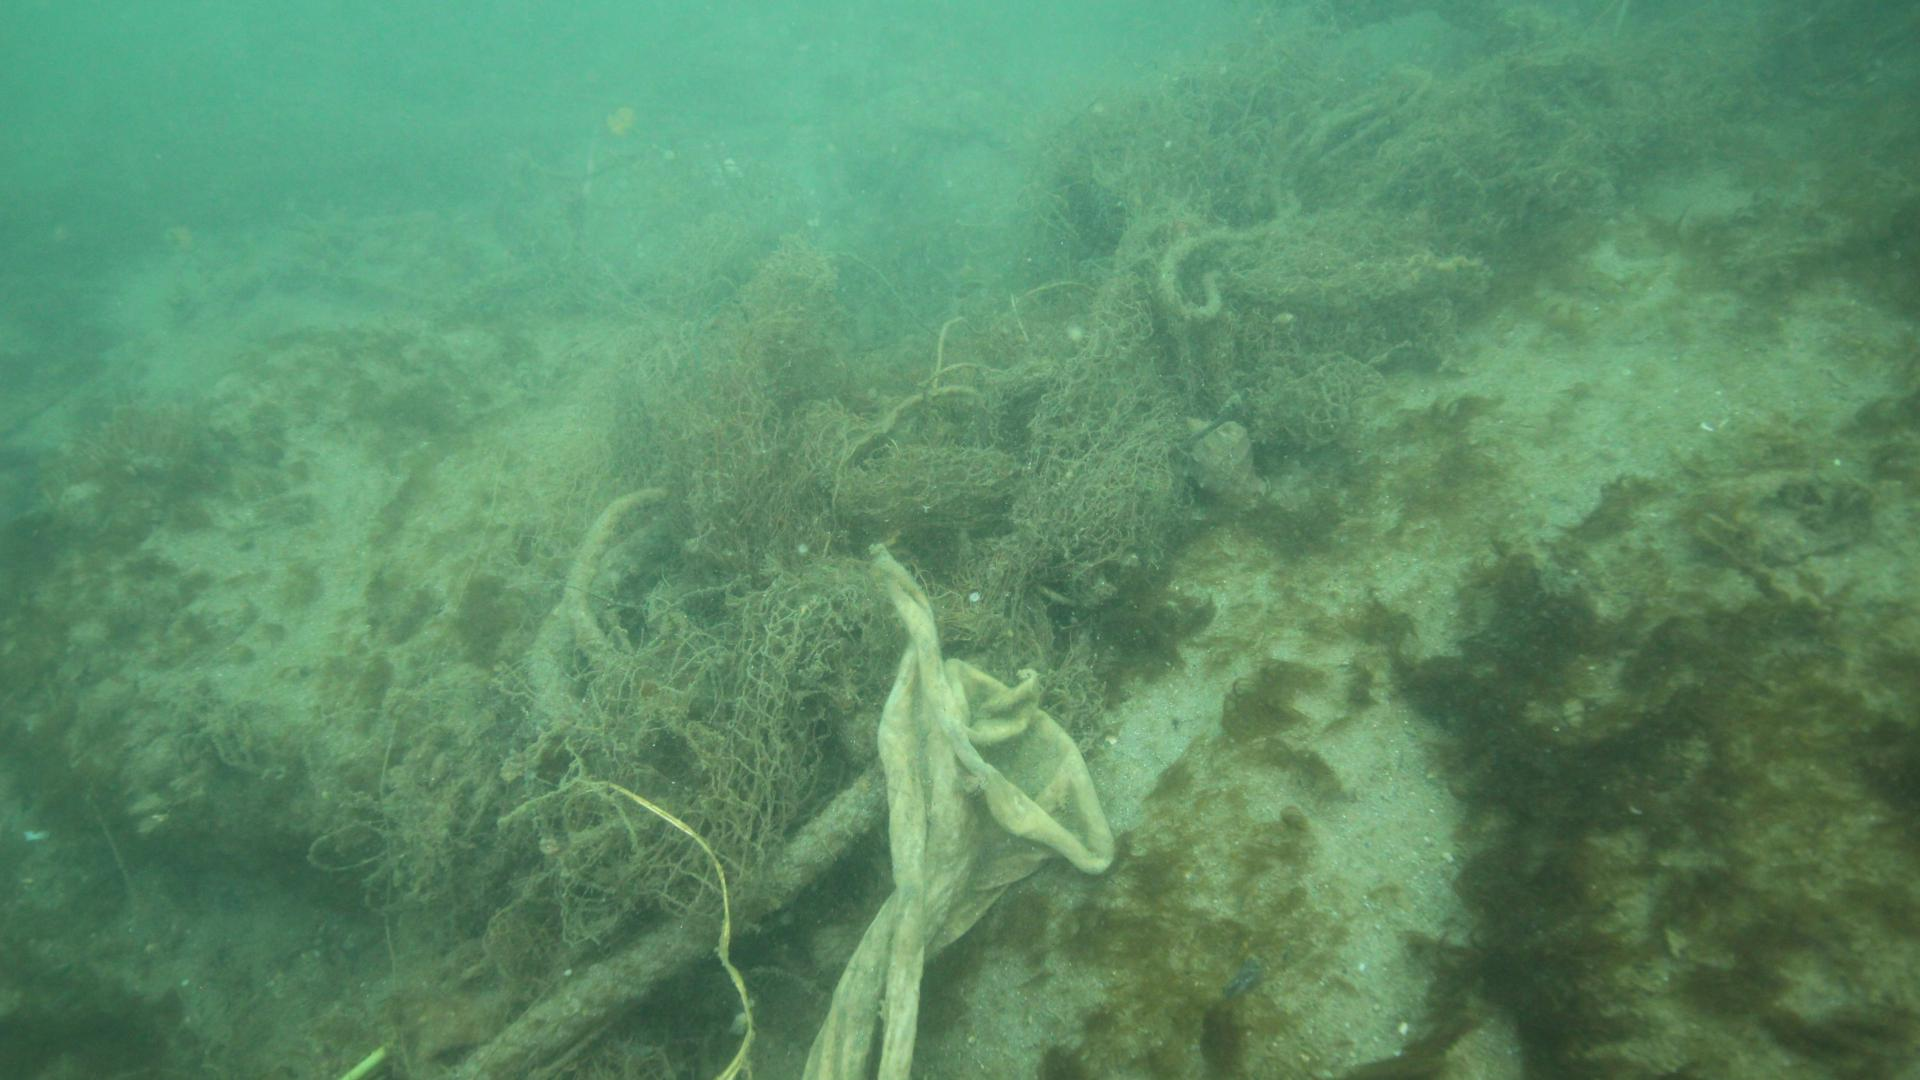fish net: (307, 3, 1793, 1004)
rope: (436, 764, 885, 1080)
